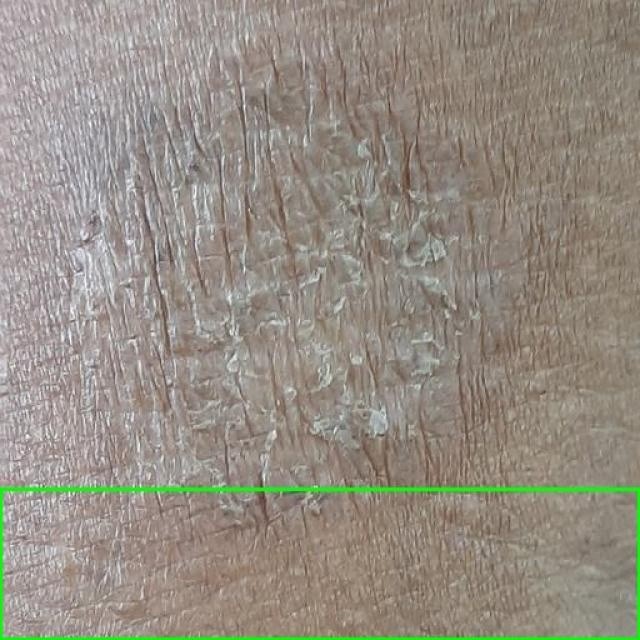Tinea Corporis: (0, 489, 639, 639)
